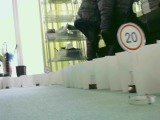speed_20: (117, 22, 145, 52)
